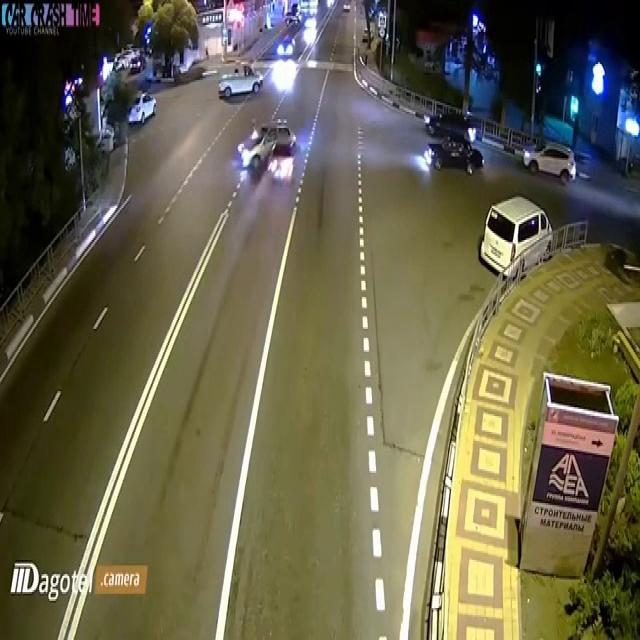accident: (233, 105, 306, 196)
